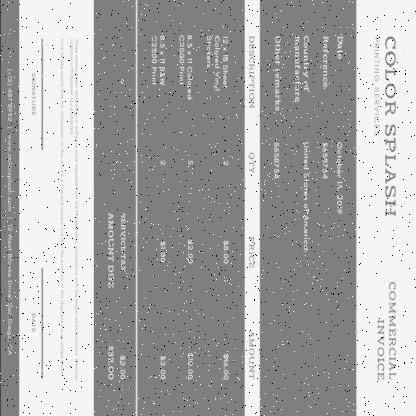Paragraph: (269, 32, 345, 254), (58, 35, 80, 385), (371, 33, 399, 221), (102, 206, 130, 388), (3, 66, 15, 360), (374, 278, 398, 387)
Table: (136, 2, 259, 416)
